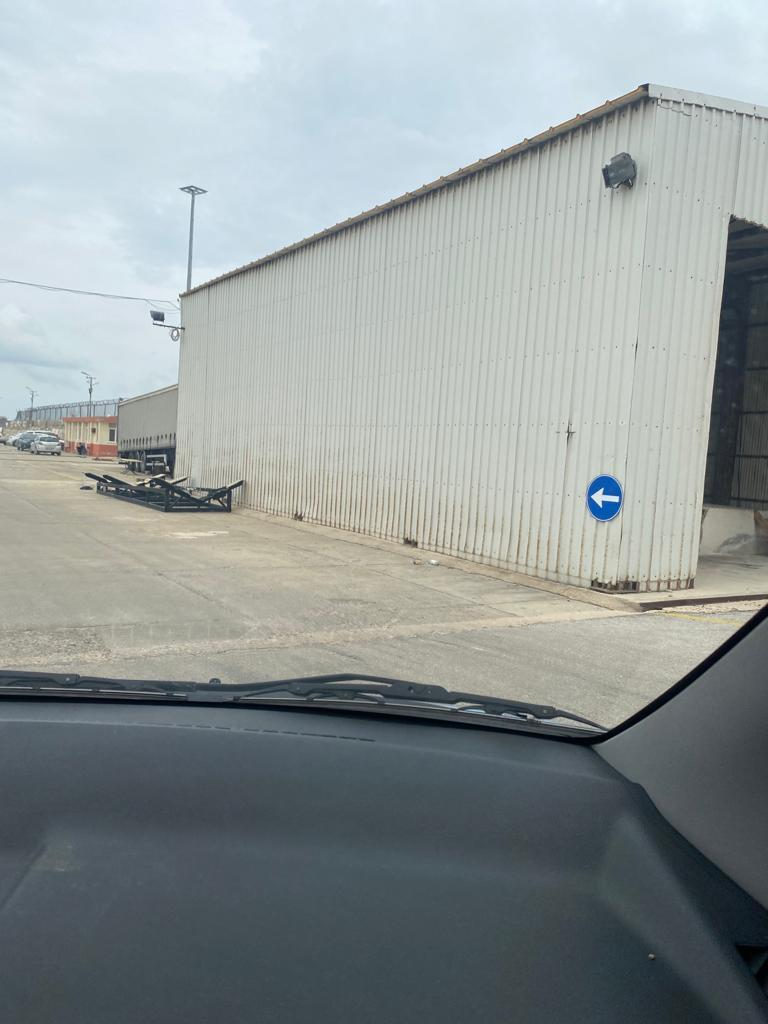turnleft: (588, 476, 622, 522)
